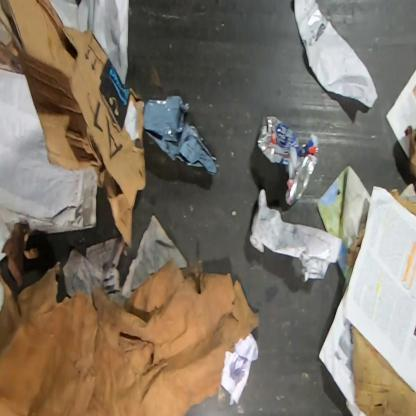cardboard: (0, 0, 147, 248), (351, 325, 415, 415), (389, 188, 415, 219)
metal: (257, 116, 319, 210)
soft_plastic: (142, 96, 218, 174)
